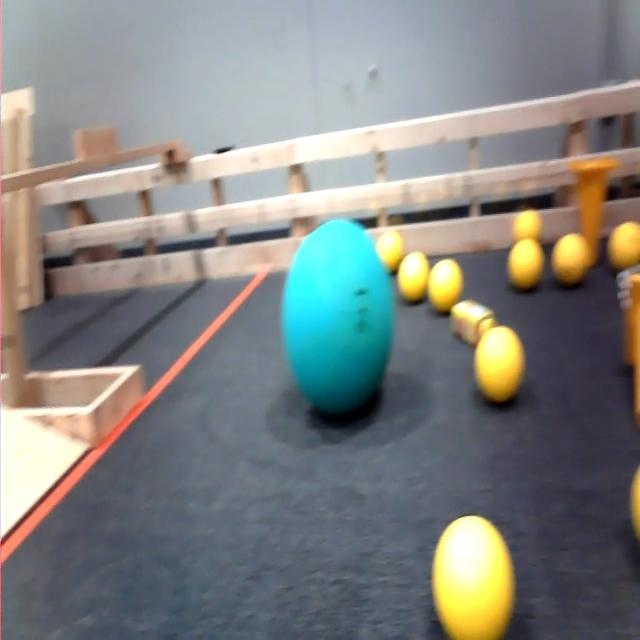fuel: (411, 492, 525, 640), (470, 316, 534, 408), (550, 229, 595, 286), (506, 236, 548, 296), (602, 214, 640, 273), (426, 250, 461, 313), (394, 248, 430, 303), (623, 450, 640, 563), (376, 221, 404, 271), (509, 206, 546, 241)
